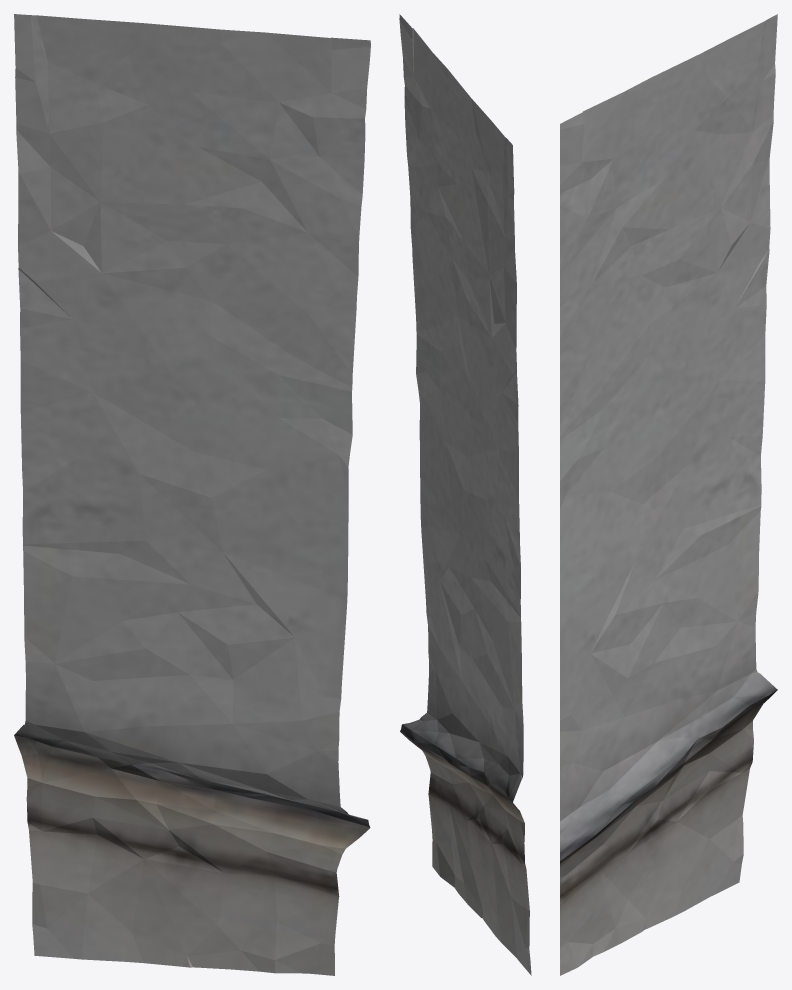
The picture shows the model from 3 angles, left to right: view 1: azimuth 30°, elevation 25°; view 2: azimuth 150°, elevation 25°; view 3: azimuth 270°, elevation 25°; orthographic projection. The views are drawn at different scales.
Size of the model in its own units: 0.2276 by 0.8374 by 0.1904.
Materials: 1 (1 with a texture image).
